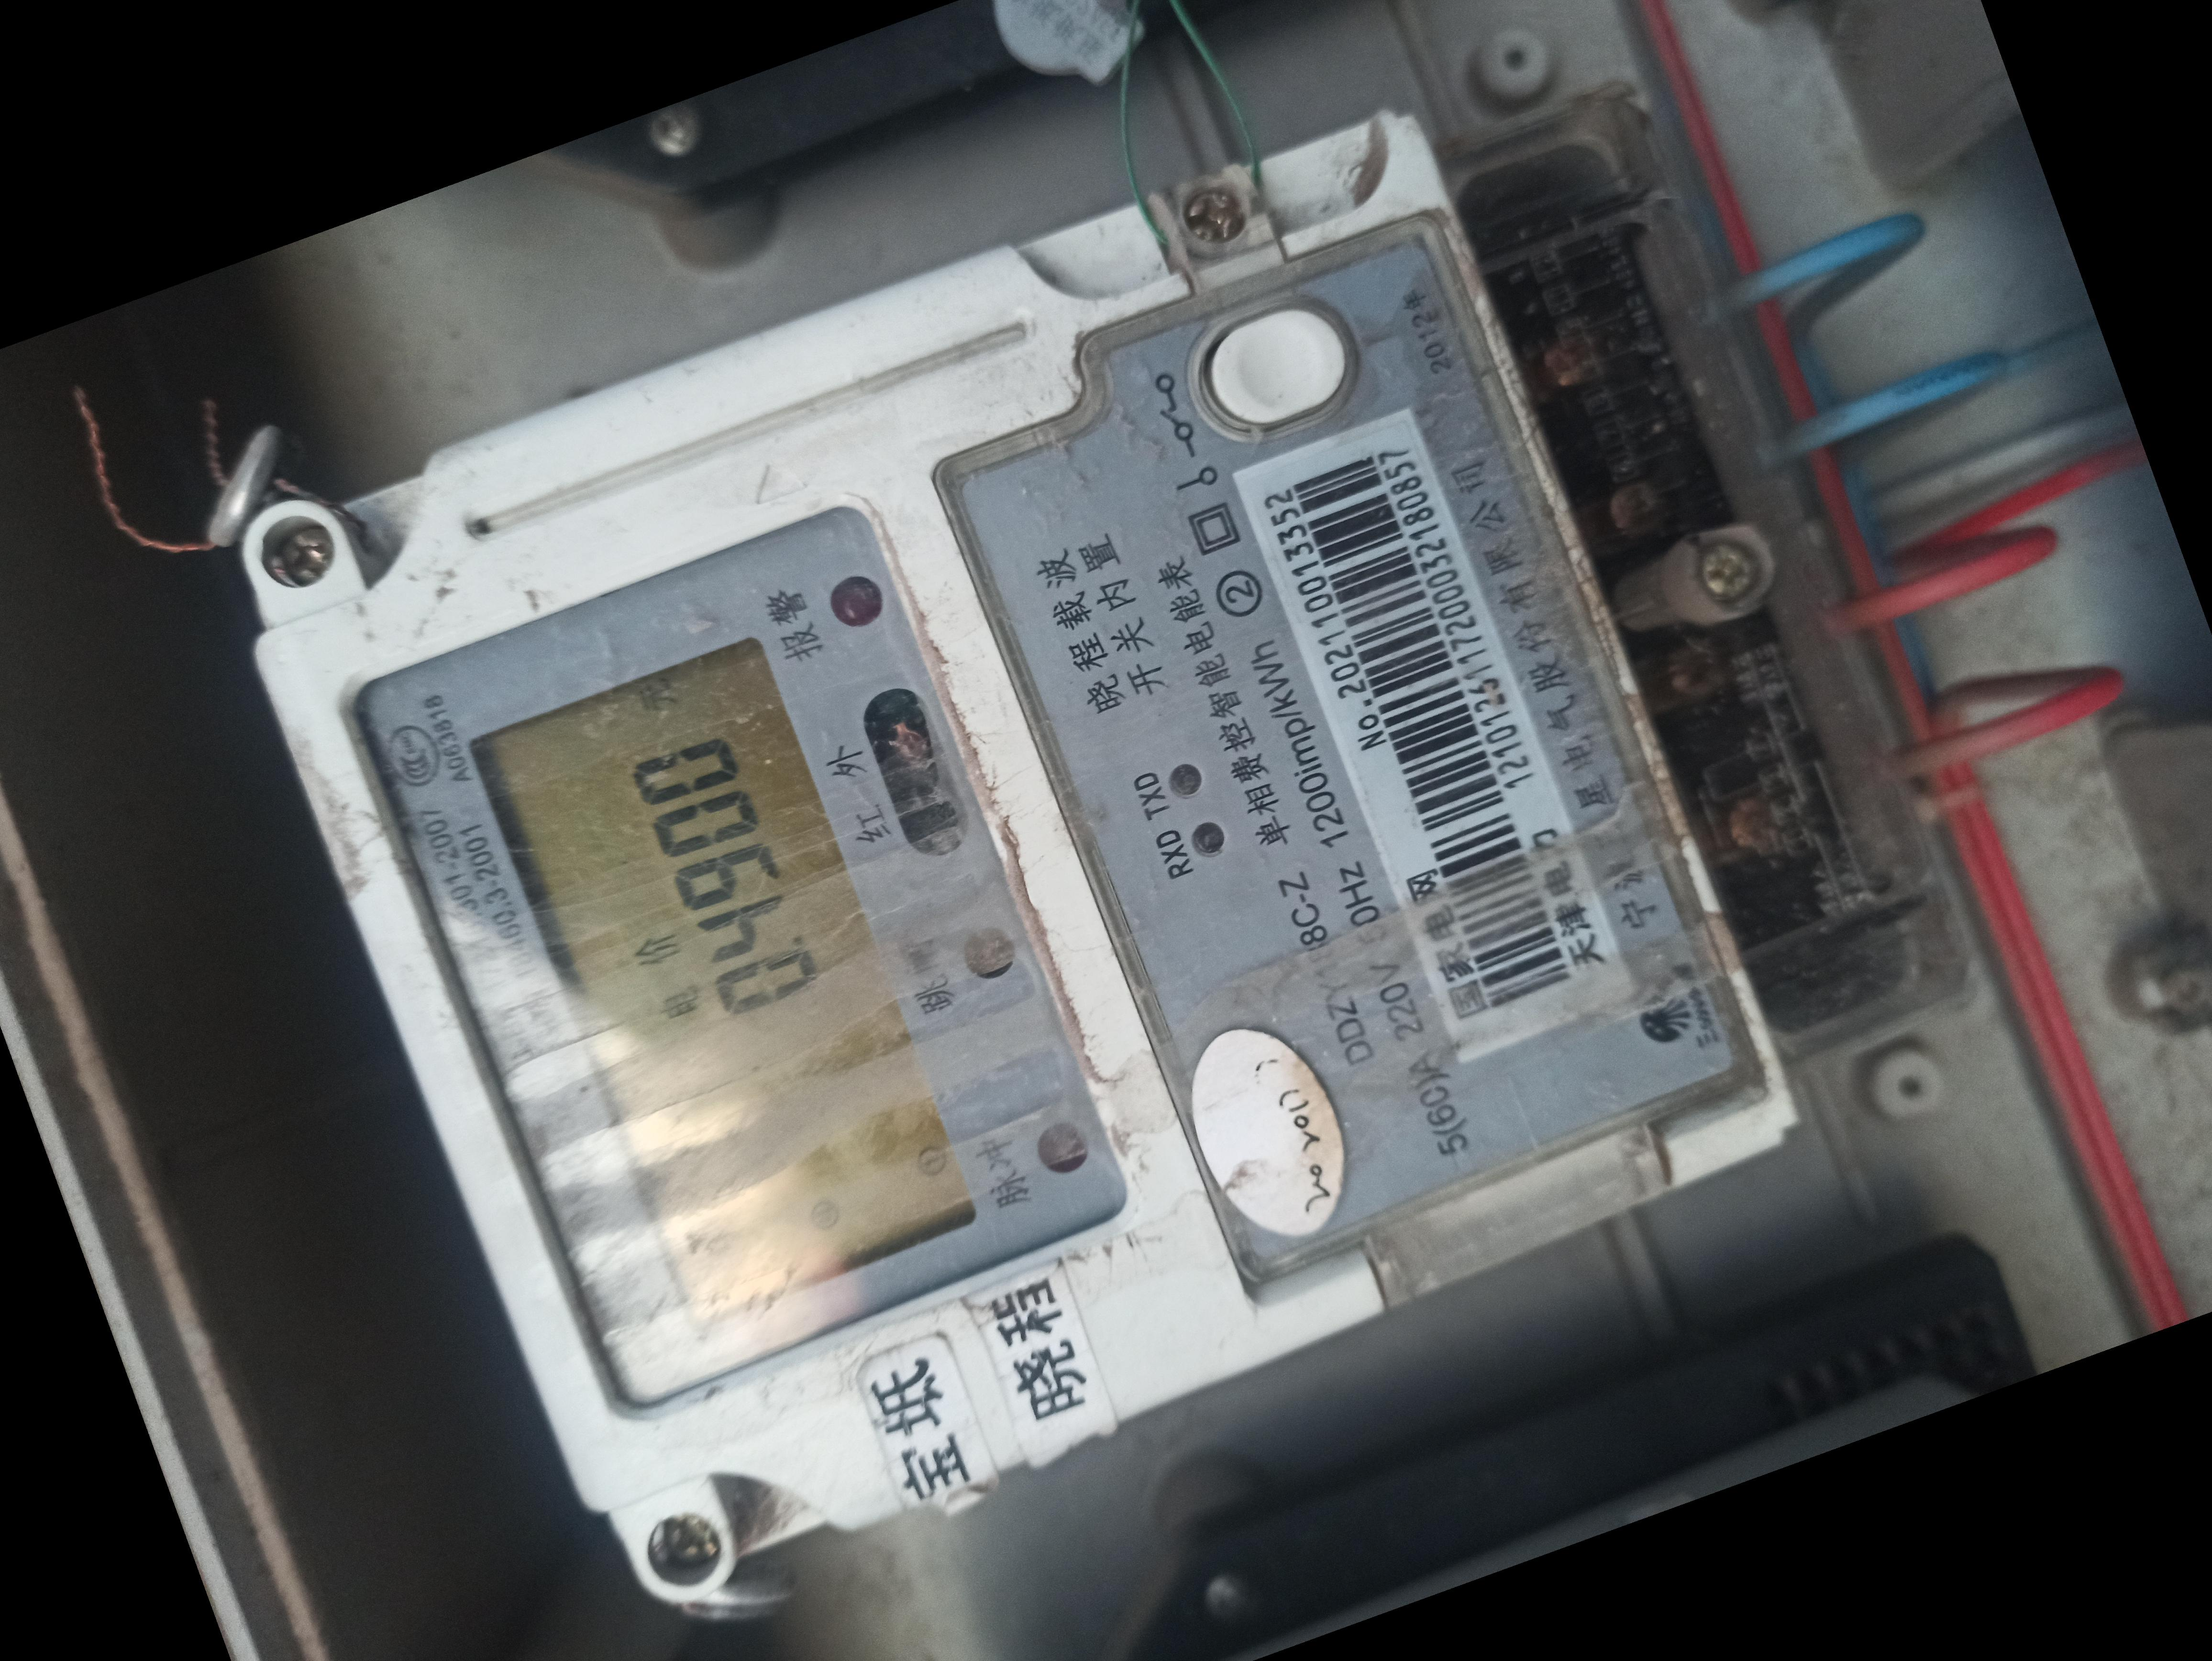digital: (244, 110, 1790, 1549)
